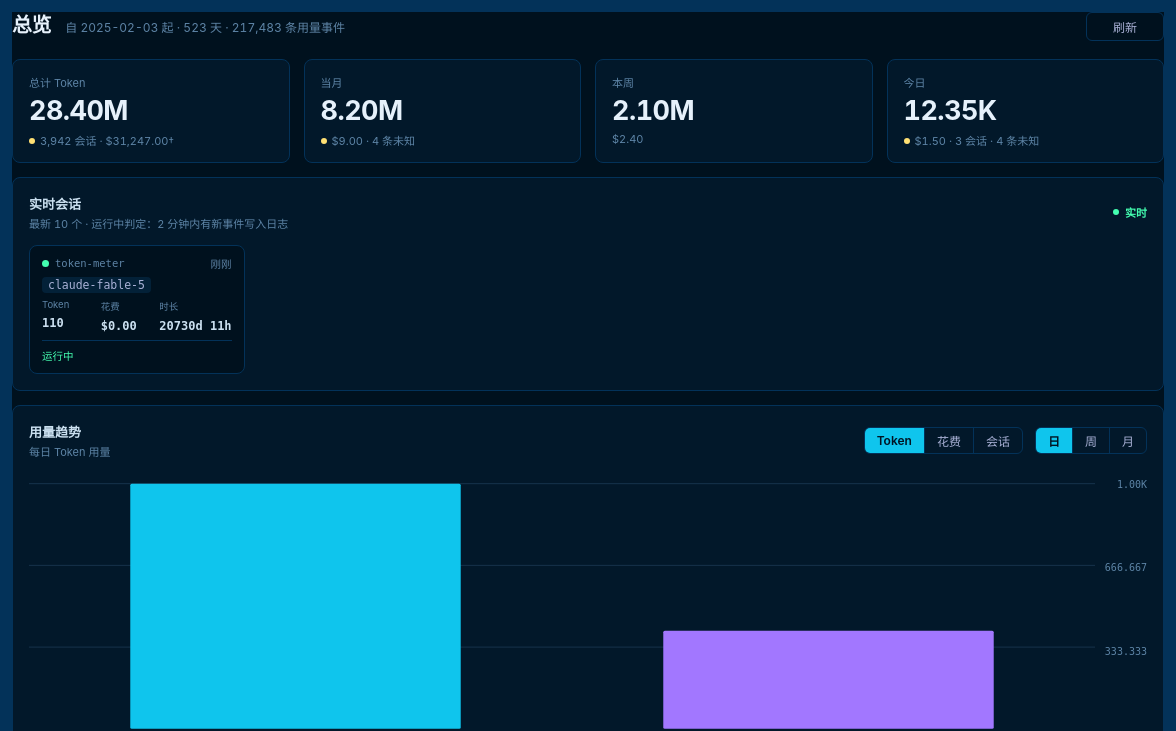
Overview (ready) › switches the trend chart metric and granularity locally without another query
Expected: the text "token-meter" is shown, [55,257,124,269]
Click the button "花费": [948, 440] box [924,428,973,453]
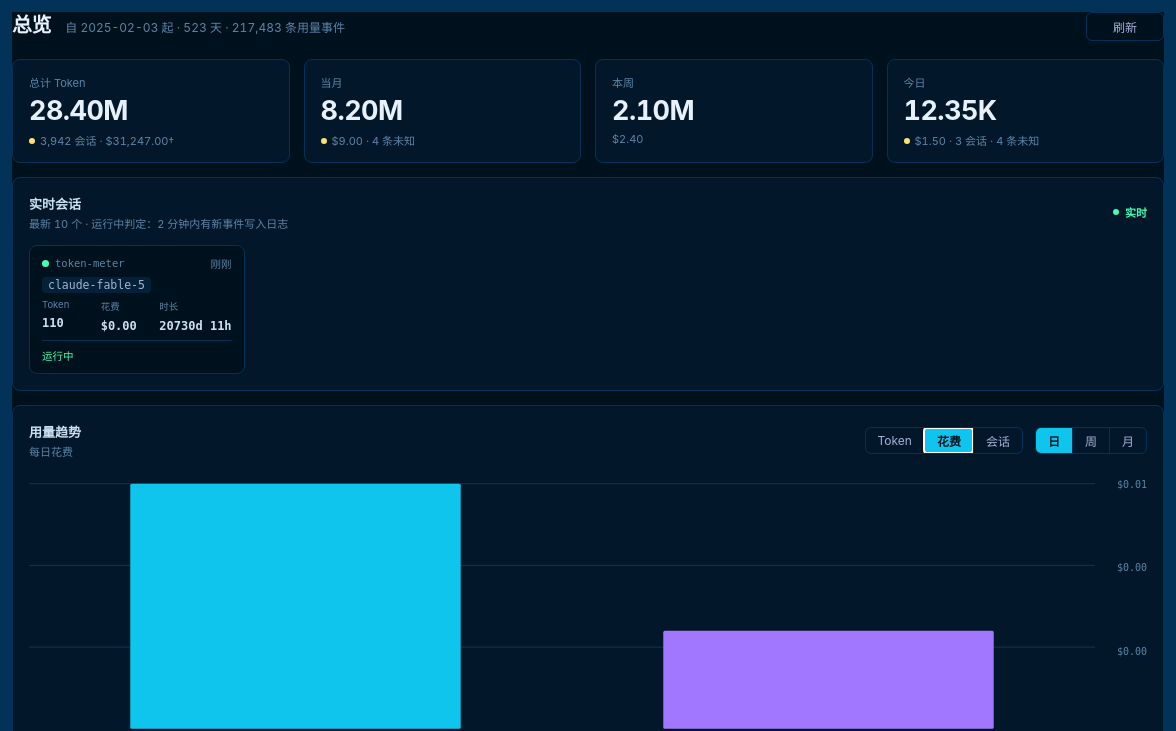
Click the button "周": [1090, 440] box [1072,428,1109,453]
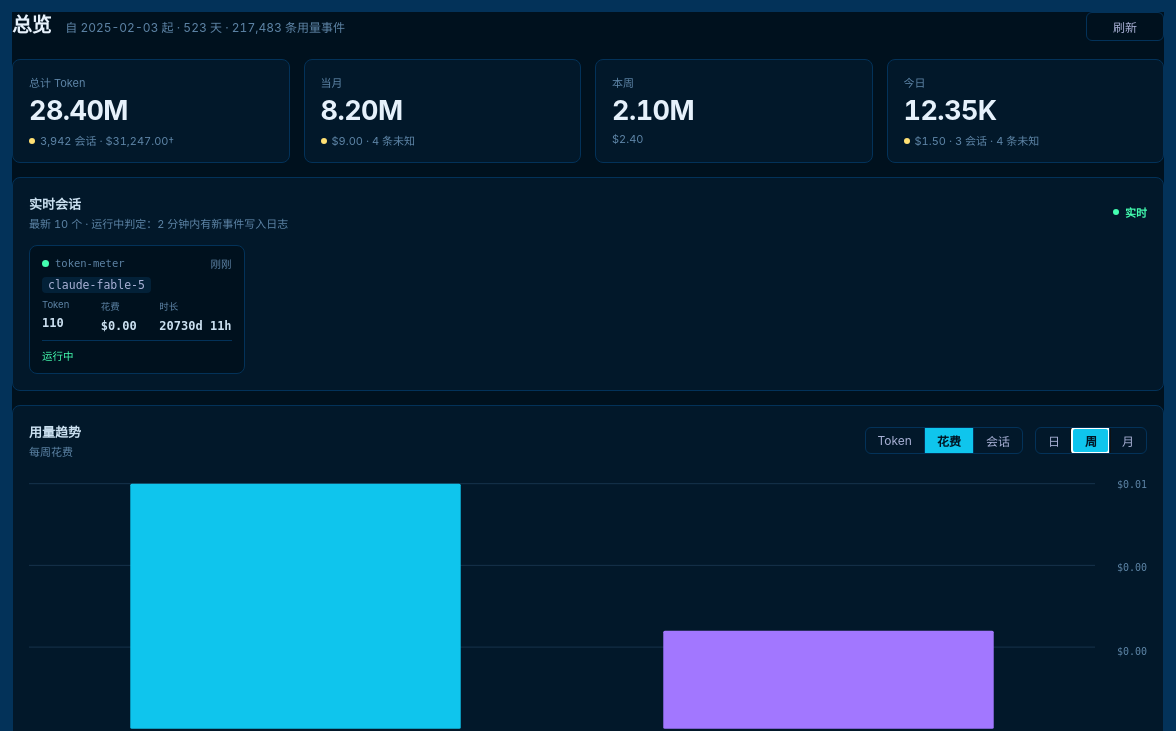
Expected: the text "每周花费" is shown, [29,445,73,459]
